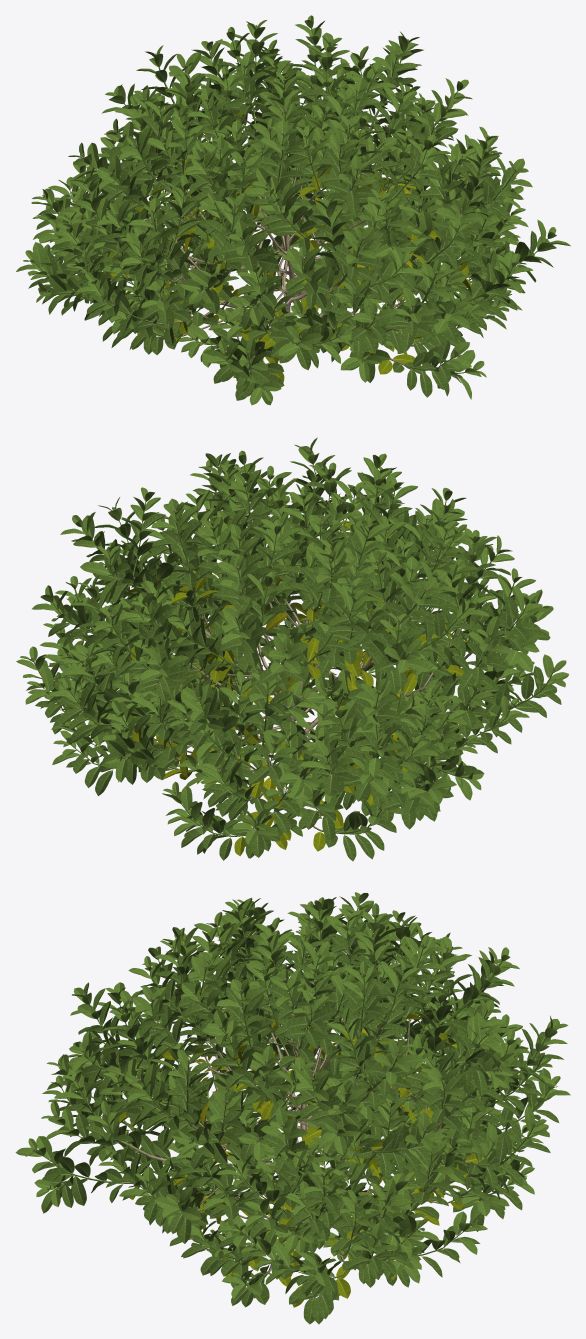
The picture shows the model from 3 angles, top to bottom: view 1: azimuth 30°, elevation 25°; view 2: azimuth 150°, elevation 25°; view 3: azimuth 270°, elevation 25°; orthographic projection. The views are drawn at different scales.
Parts seen in each view (by area): view 1: Ixora_chinensis_red_HD; view 2: Ixora_chinensis_red_HD; view 3: Ixora_chinensis_red_HD.
Boxes of the visible parts, left/top/right/bottom form: Ixora_chinensis_red_HD: left=16, top=15, right=570, bottom=405; Ixora_chinensis_red_HD: left=16, top=437, right=568, bottom=861; Ixora_chinensis_red_HD: left=15, top=892, right=570, bottom=1324.
Bounding box in the file's own units: 2.25 × 1.46 × 2.24.
Materials: 8 (8 with a texture image).
